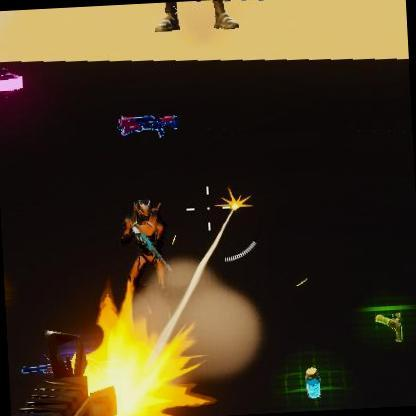person: (132, 198, 175, 298)
